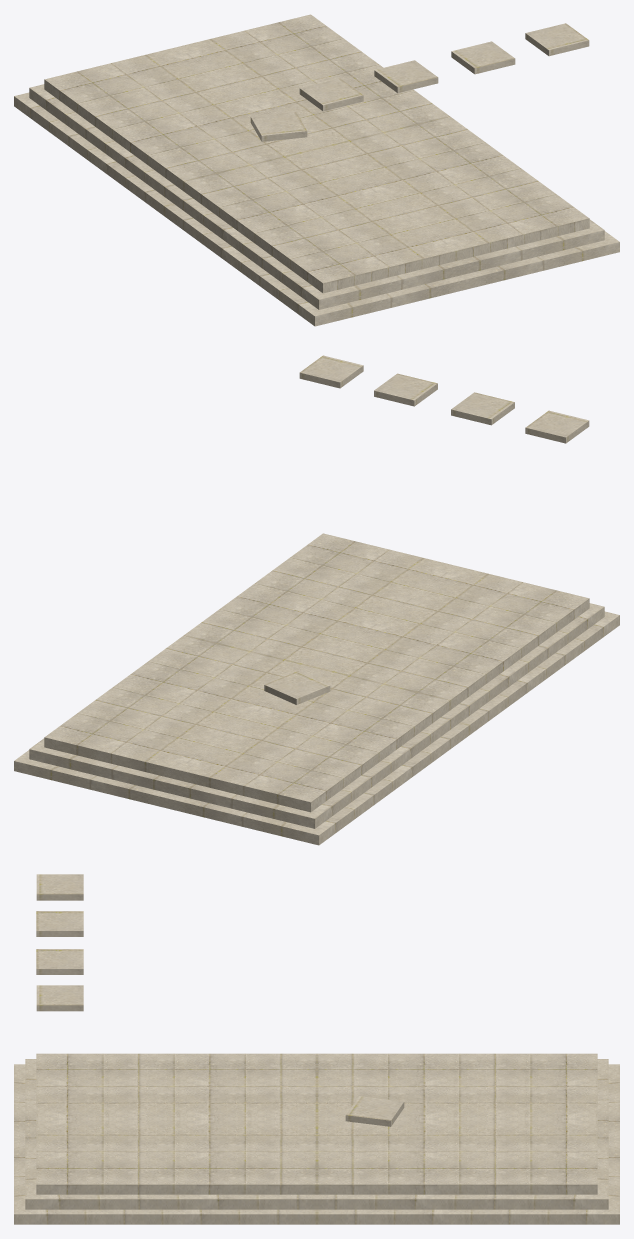
Rendered from temple_unfinished_03.dae.
3 views of the same model, one above another, from view 1: azimuth 30°, elevation 25°; view 2: azimuth 150°, elevation 25°; view 3: azimuth 270°, elevation 25° (orthographic).
Visible parts, largest first — view 1: unfinished_temple_base_2; view 2: unfinished_temple_base_2; view 3: unfinished_temple_base_2.
Boxes of the visible parts, <box> form: unfinished_temple_base_2: <box>14,14,619,326</box>; unfinished_temple_base_2: <box>14,355,619,845</box>; unfinished_temple_base_2: <box>14,874,619,1224</box>.
Size of the model in its own units: 16.93 by 28.92 by 11.04.
